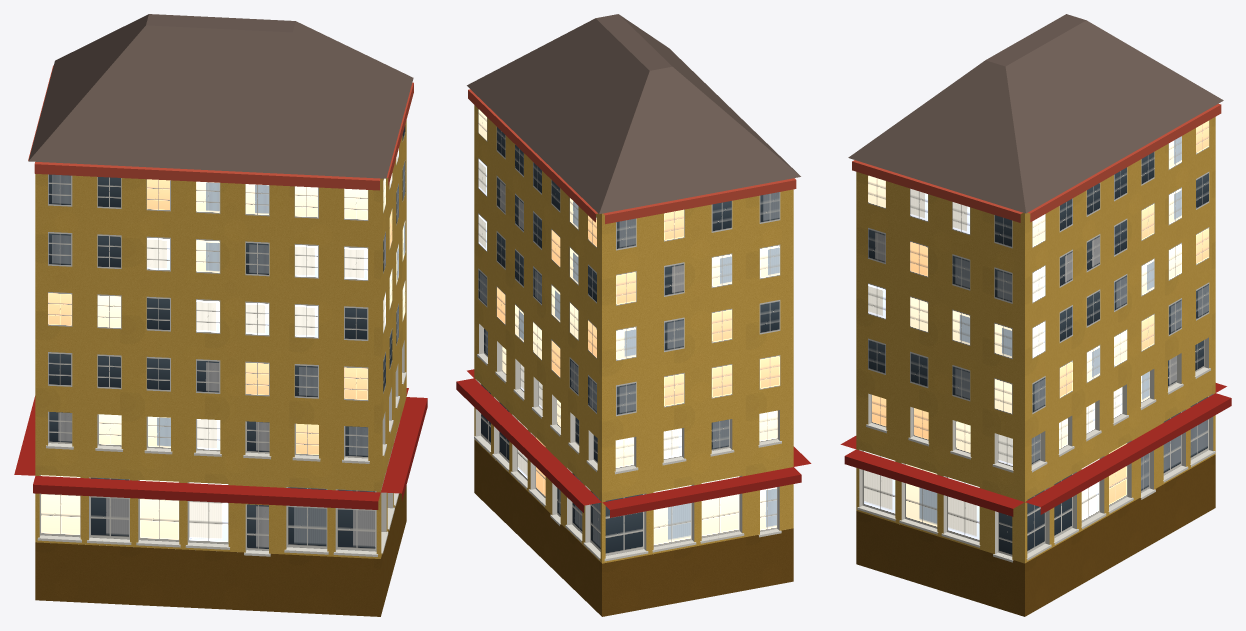
The model's file is z2_traug8.glb.
3 views of the same model, side by side, from view 1: azimuth 30°, elevation 25°; view 2: azimuth 150°, elevation 25°; view 3: azimuth 270°, elevation 25° (orthographic). The views are drawn at different scales.
Parts seen in each view (by area): view 1: z2_traug8; view 2: z2_traug8; view 3: z2_traug8.
Boxes of the visible parts, x1,y1,x2,y2 form: z2_traug8: (14,14,427,616); z2_traug8: (456,14,811,616); z2_traug8: (840,14,1231,616).
Size of the model in its own units: 21.08 by 27.86 by 19.91.
3 materials, 3 textured.
